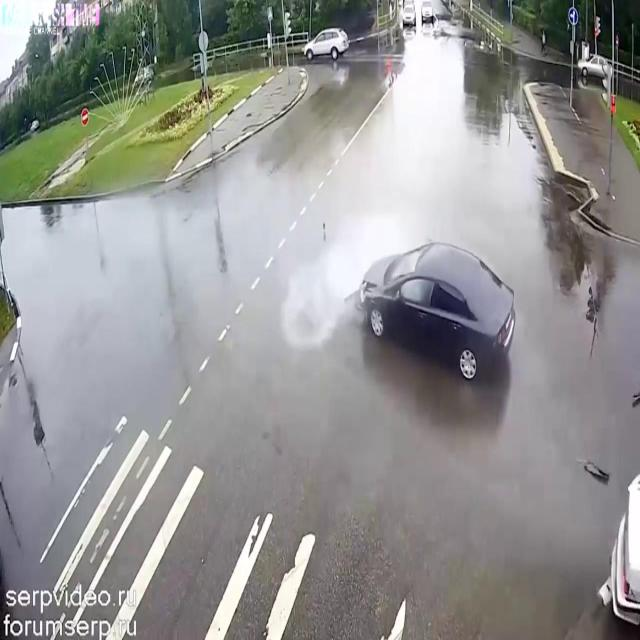accident: (336, 221, 524, 399)
